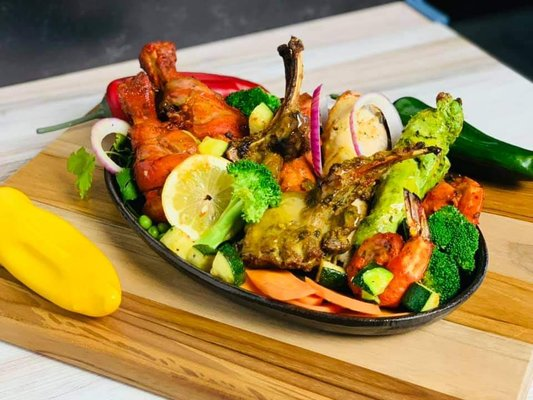curry: (385, 205, 481, 312), (416, 204, 481, 310), (421, 247, 462, 305)
pasta: (0, 185, 123, 317)
sushi: (89, 31, 523, 342)
